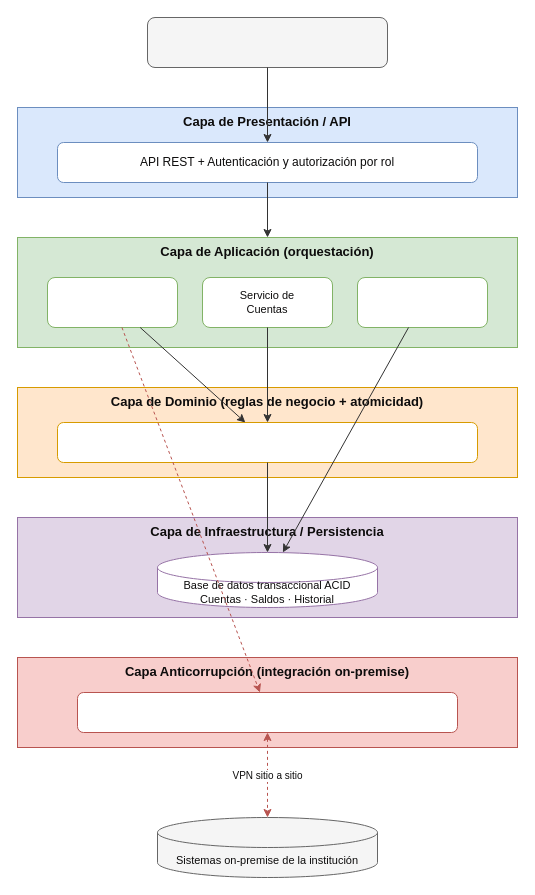
The diagram is 535 pixels wide and 895 high, and some of its shapes have lost their labels. Each missing label, with the centre of its shape:
Adaptador de integración API / SOAP: point 267,712
Cliente / Operador autenticado: point 267,42
Servicio de Consulta: point 422,302
Servicio de Transferencias: point 112,302
Validaciones + Débito/Crédito atómico + Invariantes financieros: point 267,442
